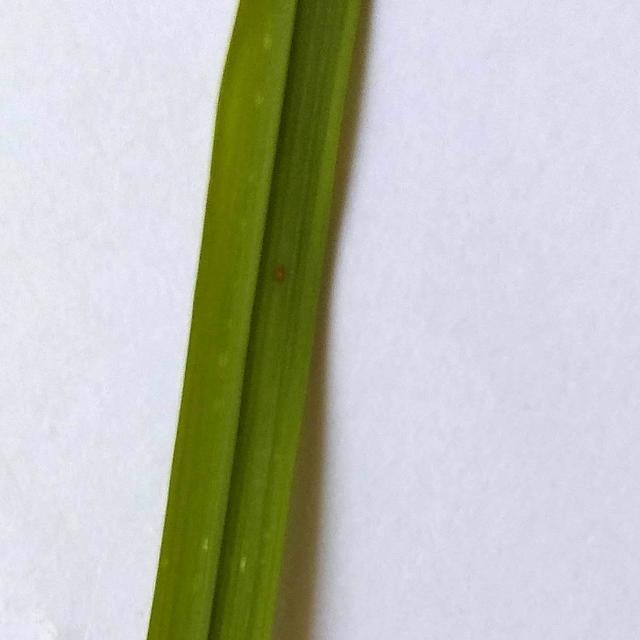Blast: (270, 260, 288, 290)
